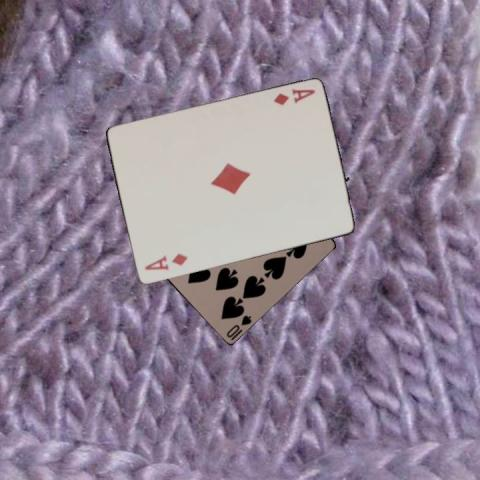10s: (224, 312, 253, 341)
Ad: (141, 251, 189, 272), (270, 86, 316, 107)
